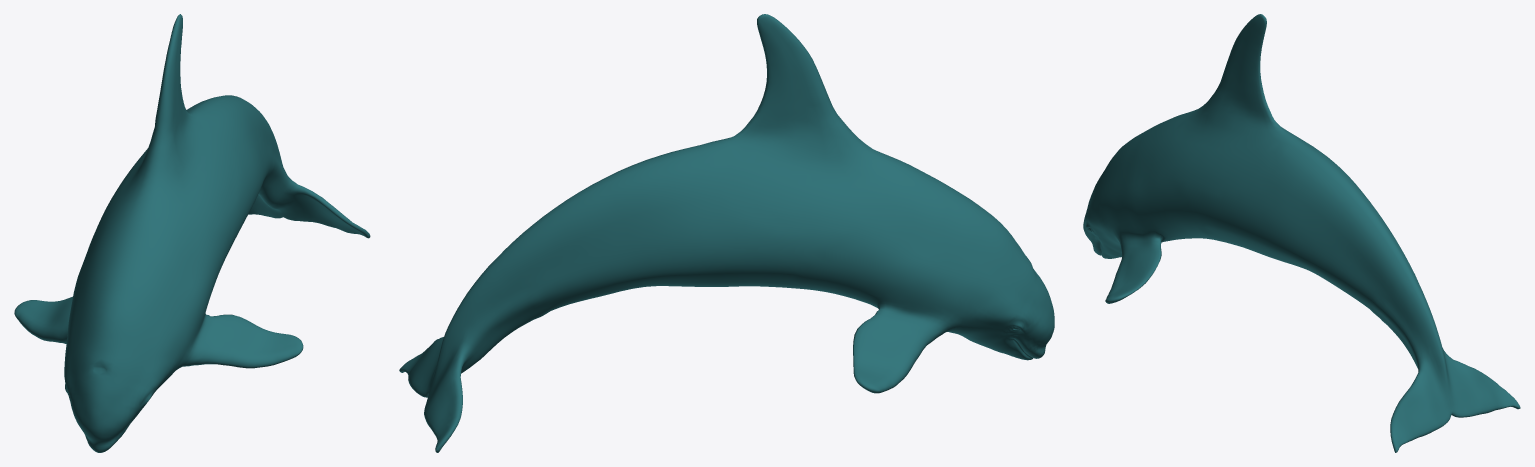
Rendered from Killer_Whale.fbx.
3 views of the same model, side by side, from view 1: azimuth 30°, elevation 25°; view 2: azimuth 150°, elevation 25°; view 3: azimuth 270°, elevation 25° (orthographic). The views are drawn at different scales.
Parts seen in each view (by area): view 1: killer_whale; view 2: killer_whale; view 3: killer_whale.
Boxes of the visible parts, x1=… form: killer_whale: x1=14, y1=14, x2=370, y2=452; killer_whale: x1=399, y1=14, x2=1054, y2=452; killer_whale: x1=1083, y1=14, x2=1520, y2=452.
Bounding box in the file's own units: 14972 × 10997 × 13604.
